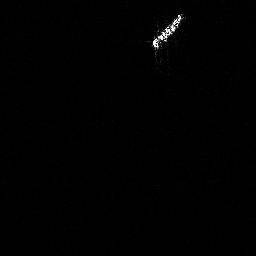ship: (149, 10, 187, 52)
